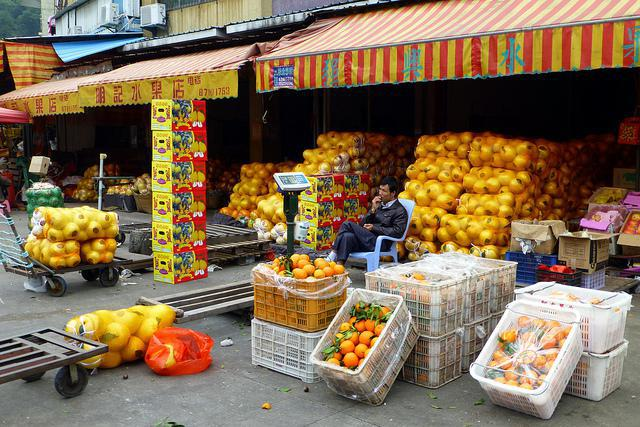hand: (373, 174, 399, 202)
